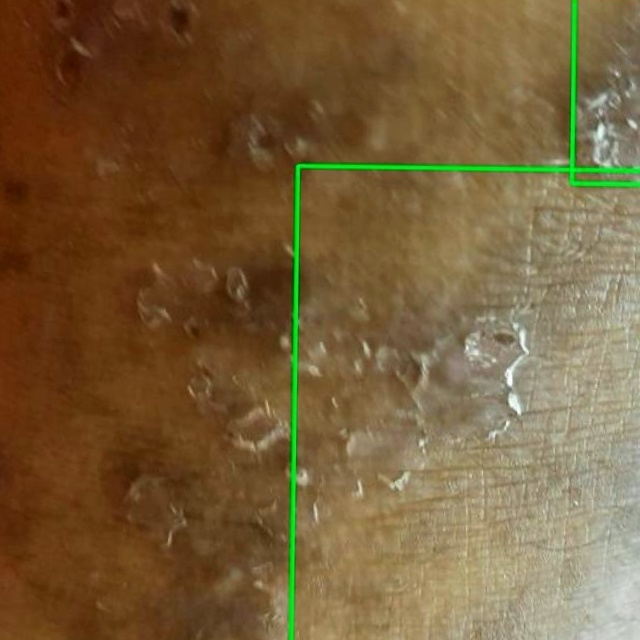Tinea Corporis: (291, 167, 639, 639), (571, 0, 639, 184)
